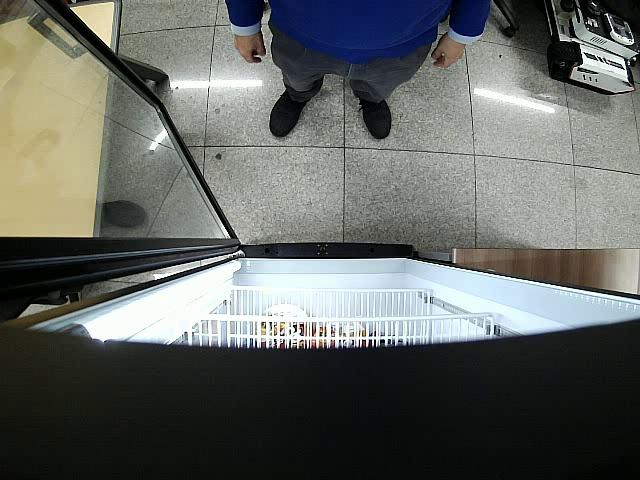00_hand: (431, 40, 465, 68), (235, 35, 266, 63)
